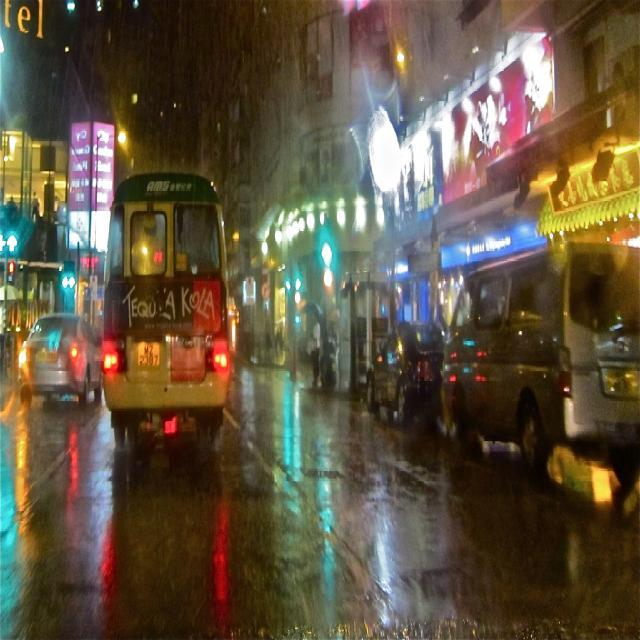bicycle: (444, 239, 622, 460)
motorcycle: (100, 172, 238, 450)
truck: (8, 306, 108, 412), (356, 327, 462, 425)
